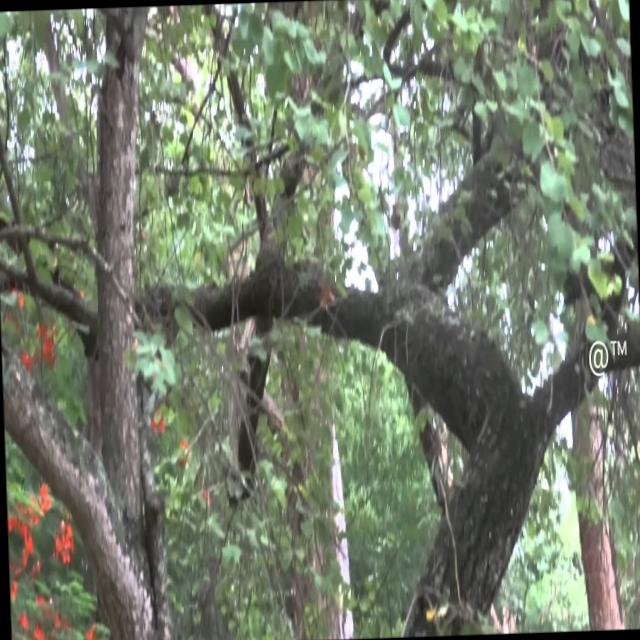Medicinal-Sandalwood: (134, 0, 550, 640)
